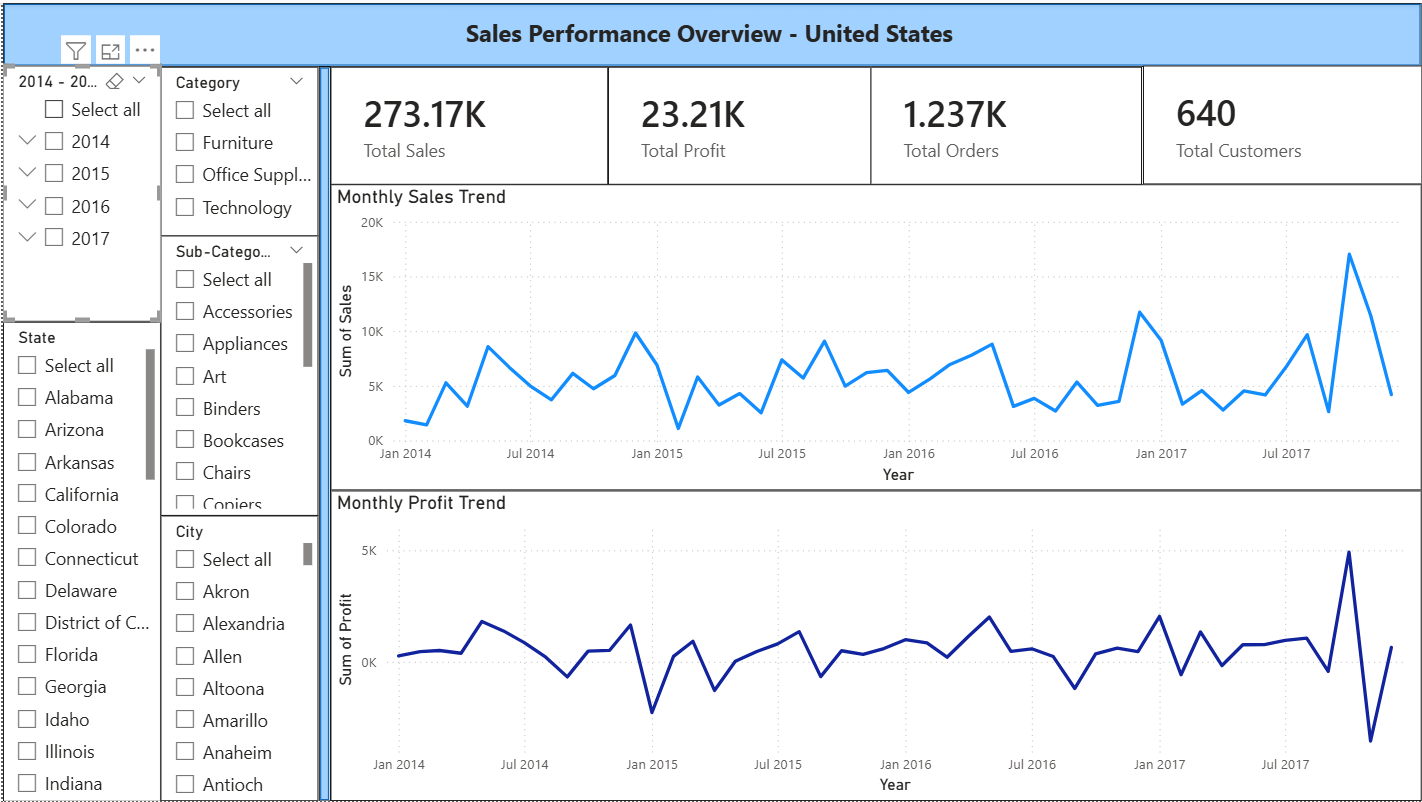

Layout of this report page (visuals, bound fields, positions):
{"tool":"powerbi","page":{"name":"Page 1","canvas":[1280,720],"ordinal":0},"visuals":[{"type":"shape","box":[0,0,1280.3,57.6],"z":0},{"type":"textbox","box":[406.2,6.9,467.9,43.9],"z":1000},{"type":"slicer","title":"Timeline","fields":{"Values":["Sample - Superstore.Order Date.Variation.Date Hierarchy.Year","Sample - Superstore.Order Date.Variation.Date Hierarchy.Quarter","Sample - Superstore.Order Date.Variation.Date Hierarchy.Month","Sample - Superstore.Order Date.Variation.Date Hierarchy.Day"]},"box":[0,56.2,142.5,231.2],"z":2000},{"type":"cardVisual","fields":{"Data":["Sum(Sample - Superstore.Sales)"]},"box":[295,57.5,250,106.2],"z":3000},{"type":"cardVisual","fields":{"Data":["Sum(Sample - Superstore.Profit)"]},"box":[545,57.5,237.5,106.2],"z":4000},{"type":"cardVisual","fields":{"Data":["Count(Sample - Superstore.Order ID)"]},"box":[782.5,57.5,245,106.2],"z":5000},{"type":"slicer","fields":{"Values":["Sample - Superstore.State"]},"box":[0,287.5,142.5,432.5],"z":6000},{"type":"slicer","fields":{"Values":["Sample - Superstore.City"]},"box":[142.5,462.5,142.5,257.5],"z":7000},{"type":"slicer","fields":{"Values":["Sample - Superstore.Category"]},"box":[142.5,57.5,142.5,152.5],"z":8000},{"type":"slicer","fields":{"Values":["Sample - Superstore.Sub-Category"]},"box":[142.5,210,142.5,252.5],"z":9000},{"type":"lineChart","title":"Monthly Sales Trend","fields":{"Y":["Sum(Sample - Superstore.Sales)"],"Category":["Sample - Superstore.Order Date.Variation.Date Hierarchy.Year","Sample - Superstore.Order Date.Variation.Date Hierarchy.Month","Sample - Superstore.Order Date.Variation.Date Hierarchy.Day"]},"box":[295,163.8,985,276.2],"z":10000},{"type":"lineChart","title":"Monthly Profit Trend","fields":{"Y":["Sum(Sample - Superstore.Profit)"],"Category":["Sample - Superstore.Order Date.Variation.Date Hierarchy.Year","Sample - Superstore.Order Date.Variation.Date Hierarchy.Month","Sample - Superstore.Order Date.Variation.Date Hierarchy.Day"]},"box":[295,440,985,280],"z":11000},{"type":"cardVisual","fields":{"Data":["Count(Sample - Superstore.Customer ID)"]},"box":[1027.5,56.2,252.5,107.5],"z":12000},{"type":"shape","box":[285,57.5,10,662.5],"z":13000}]}

Visuals, with their boxes on the page's 1280x720 design canvas (x1, y1, x2, y2). These are canvas units, not pixel positions in the 1422x802 screenshot, which may show the page scaled, cropped or inside an application window:
shape: <box>0,0,1280,58</box>
textbox: <box>406,7,874,51</box>
"Timeline" slicer: <box>0,56,142,287</box>
cardVisual - Sum(Sample - Superstore.Sales): <box>295,58,545,164</box>
cardVisual - Sum(Sample - Superstore.Profit): <box>545,58,782,164</box>
cardVisual - Count(Sample - Superstore.Order ID): <box>782,58,1028,164</box>
slicer - Sample - Superstore.State: <box>0,288,142,720</box>
slicer - Sample - Superstore.City: <box>142,462,285,720</box>
slicer - Sample - Superstore.Category: <box>142,58,285,210</box>
slicer - Sample - Superstore.Sub-Category: <box>142,210,285,462</box>
"Monthly Sales Trend" lineChart: <box>295,164,1280,440</box>
"Monthly Profit Trend" lineChart: <box>295,440,1280,720</box>
cardVisual - Count(Sample - Superstore.Customer ID): <box>1028,56,1280,164</box>
shape: <box>285,58,295,720</box>
